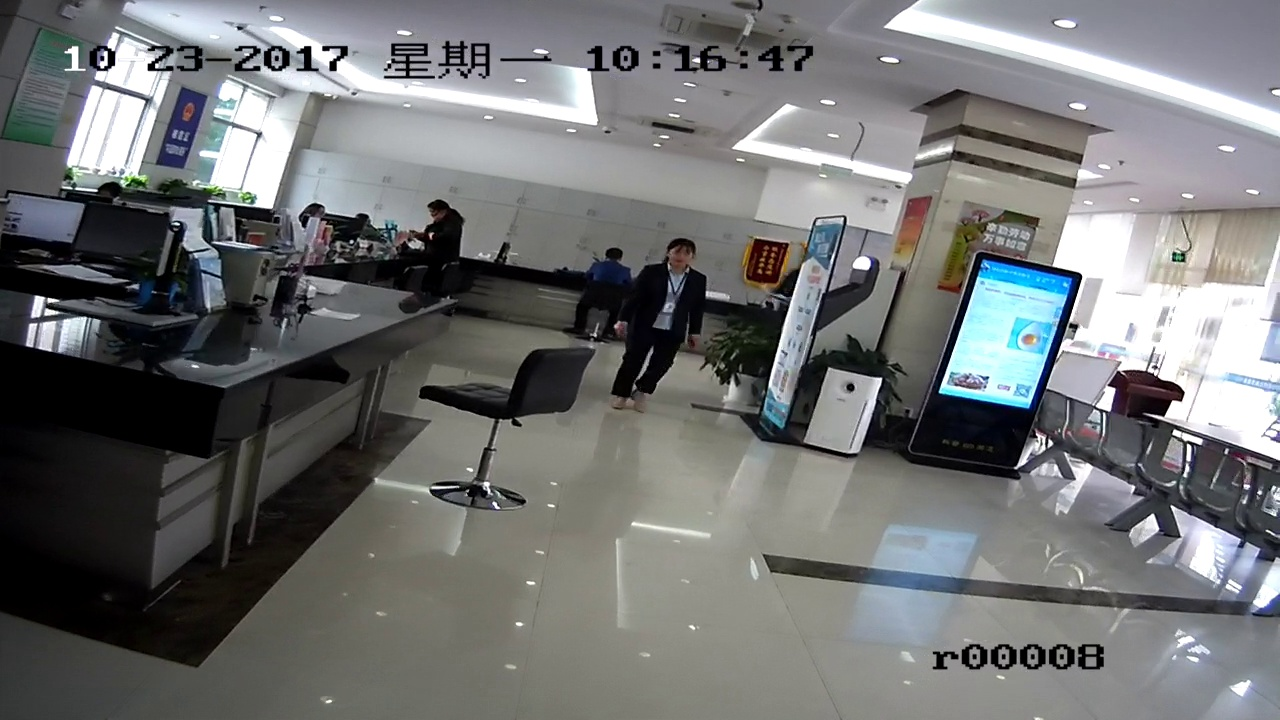chair: (425, 334, 569, 529), (1128, 435, 1192, 547), (1030, 408, 1076, 493)
desk: (1112, 360, 1180, 422)
monitor: (978, 262, 1047, 388)
person: (628, 242, 698, 409), (410, 200, 476, 301), (585, 247, 621, 327)
